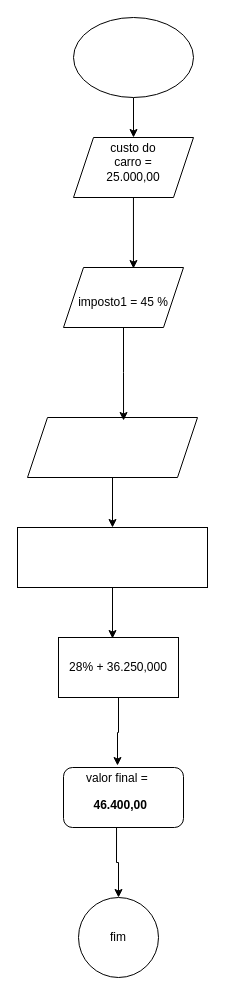
The diagram is 225 pixels wide and 995 high, and some of its shapes have lost their labels. Each missing label, with the box of its shape:
imposto1 = (25.000 * 45/100) + 25.000: (16, 526, 208, 588)
imposto2(distribuição) = 28%: (26, 416, 198, 478)
inicio: (72, 16, 194, 98)
